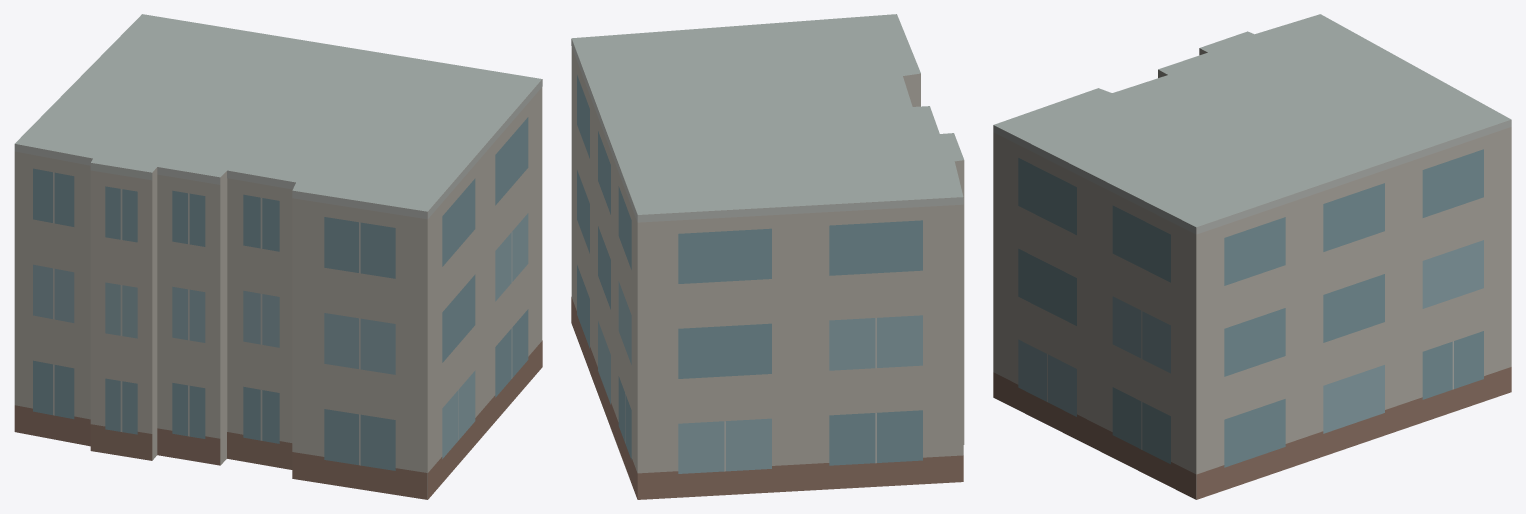
Rendered from survey-upis-32821967.glb.
The picture shows the model from 3 angles, left to right: view 1: azimuth 30°, elevation 25°; view 2: azimuth 150°, elevation 25°; view 3: azimuth 270°, elevation 25°; orthographic projection. The views are drawn at different scales.
Parts seen in each view (by area): view 1: survey-upis-32821967.tmp; view 2: survey-upis-32821967.tmp; view 3: survey-upis-32821967.tmp.
Part boxes in pixels (x1,y1,x2,y2): survey-upis-32821967.tmp: (14,14,542,499); survey-upis-32821967.tmp: (571,14,964,499); survey-upis-32821967.tmp: (993,14,1511,499).
Size of the model in its own units: 15.37 by 9.15 by 15.77.
